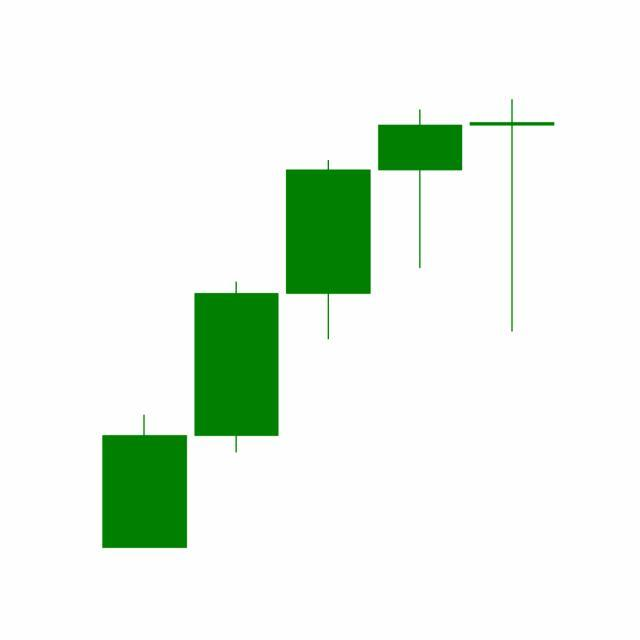Hanging Man: (374, 108, 468, 272)
